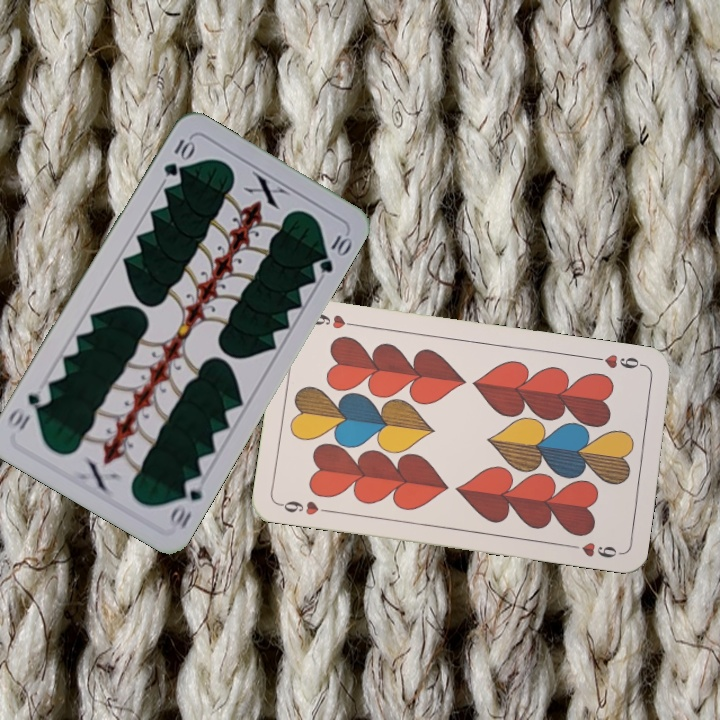G10: (165, 473, 207, 532), (159, 134, 197, 180)
H9: (275, 496, 334, 518), (590, 350, 649, 371)
